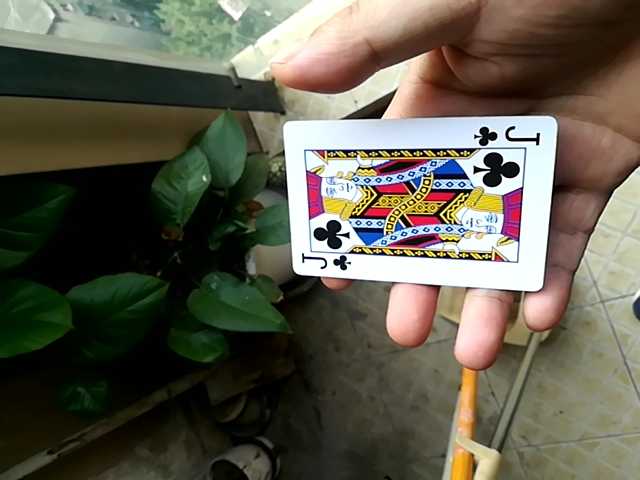mh j: (277, 111, 557, 288)
